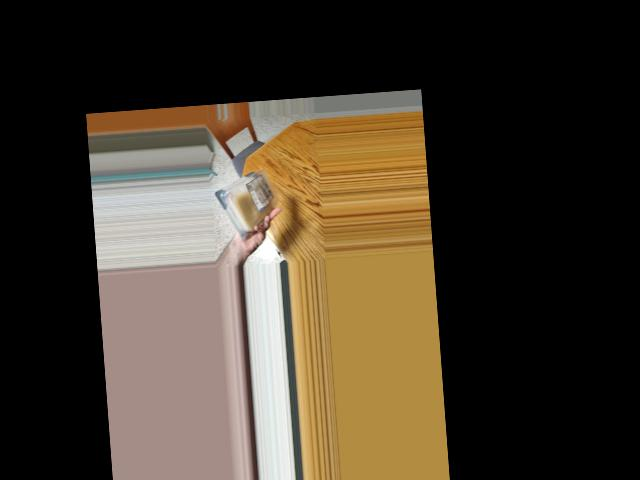cheese: (221, 165, 279, 236)
